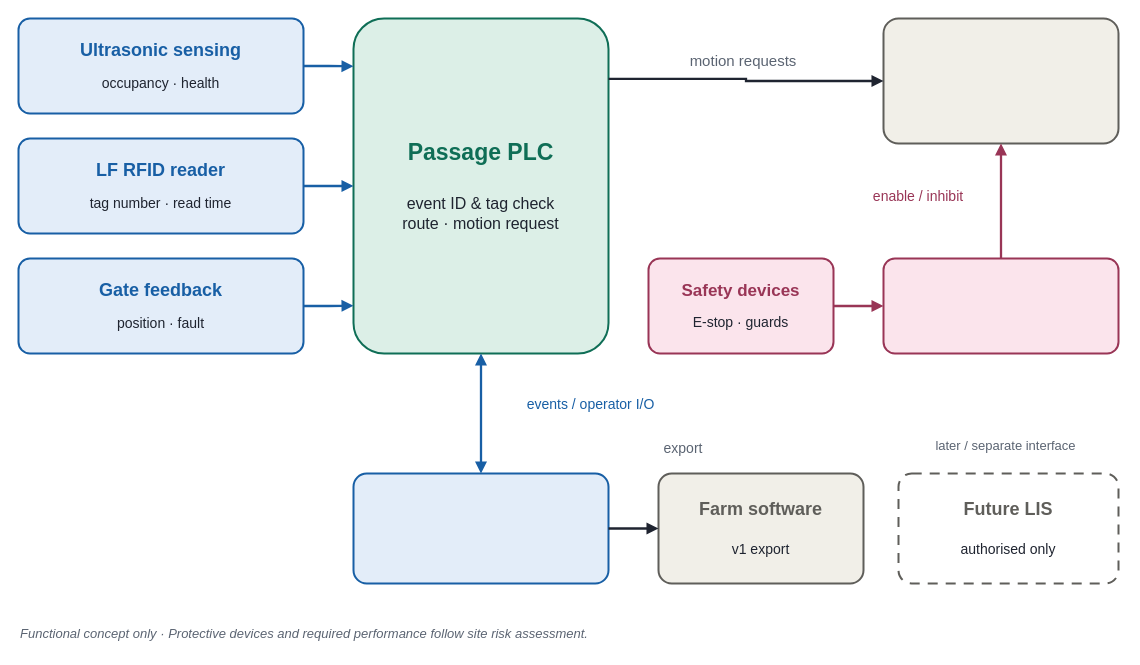
The diagram is 1140 pixels wide and 665 high, and some of its shapes have lost their labels. The box of each missing label's shape, as (x1, y1, x2, y2) in pixels:
Gate drives G0–G2 · D · H: (882, 17, 1119, 144)
Local log + HMI audit · review: (352, 472, 609, 584)
Safety control stop / inhibit: (882, 257, 1119, 354)
